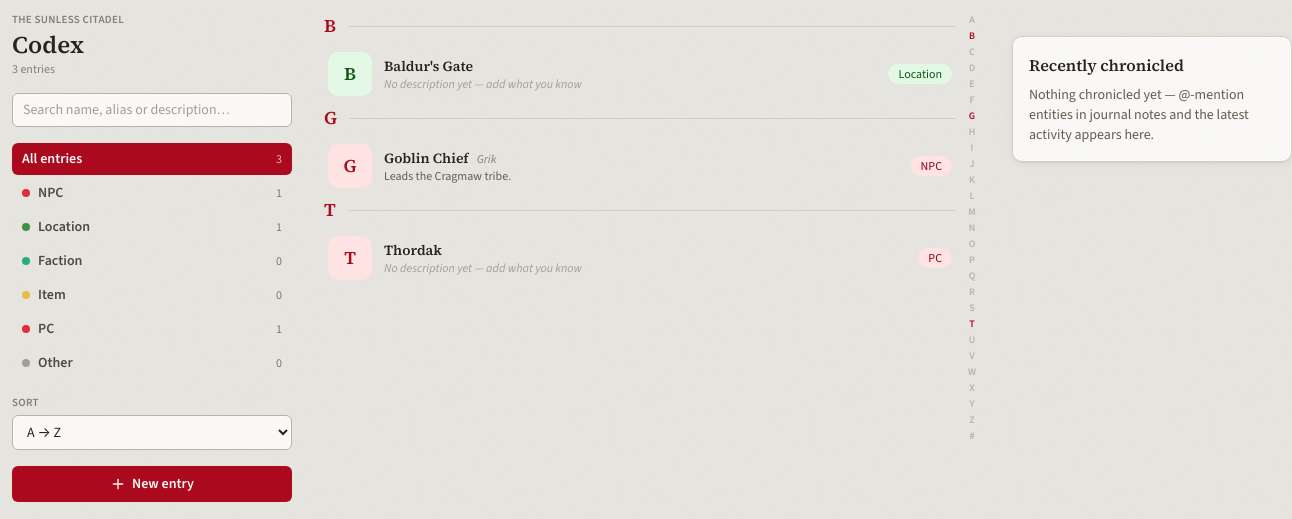
Test: CampaignCodex rail filters (#840) › composes search with the type filter
Click the button "Location 1" at [64, 226], box x1=12 y1=210 x2=292 y2=242
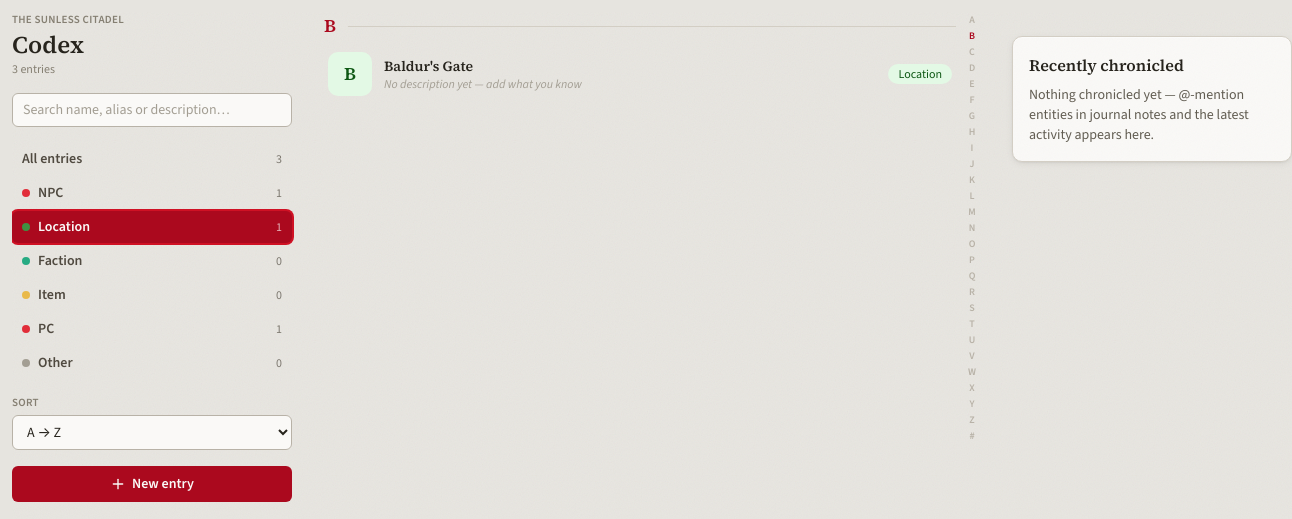
Type "goblin" into the search field labelled "Search name, alias or description…" at [152, 110], box x1=12 y1=92 x2=292 y2=126
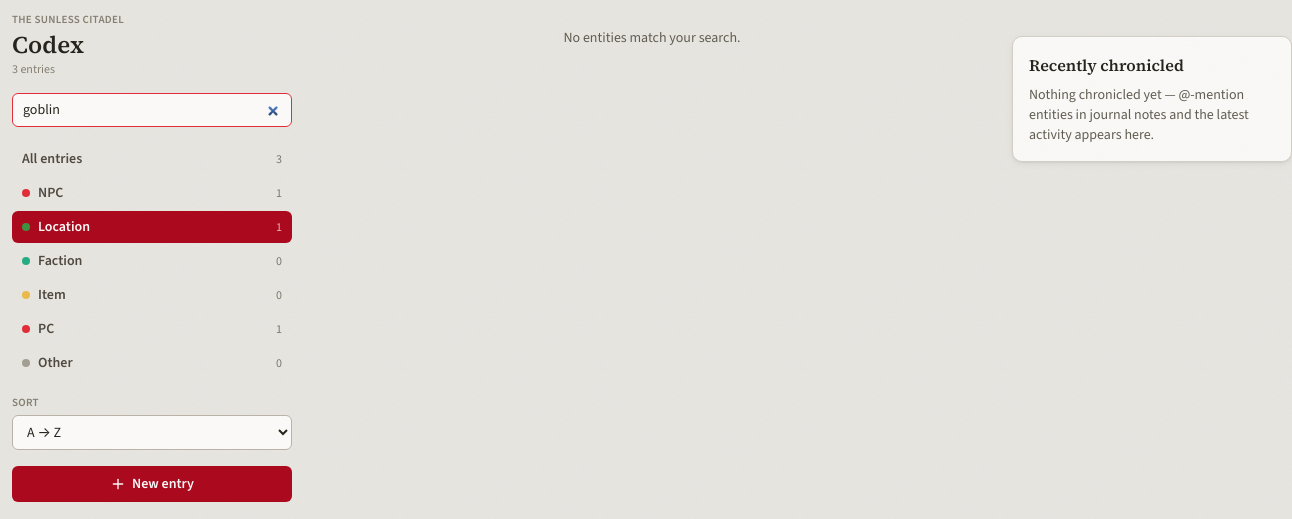
Check: no links are shown
